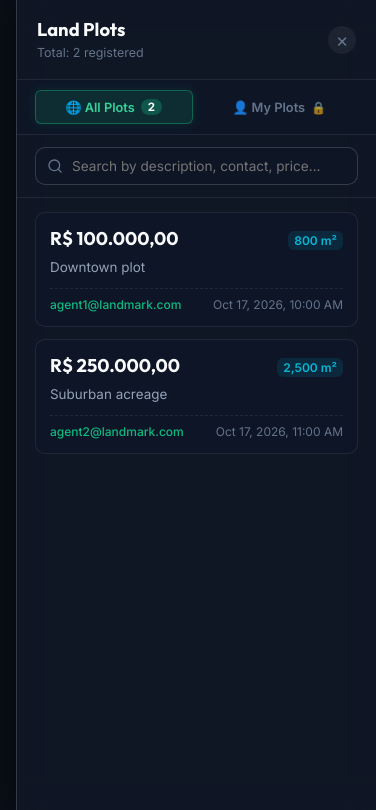
Scenario: PlotListPanel Component › clears search input when clear button clicked
Type "Downtown" into the field with placeholder "Search by description, contact, price..." at (196, 166), box x1=35 y1=147 x2=358 y2=185
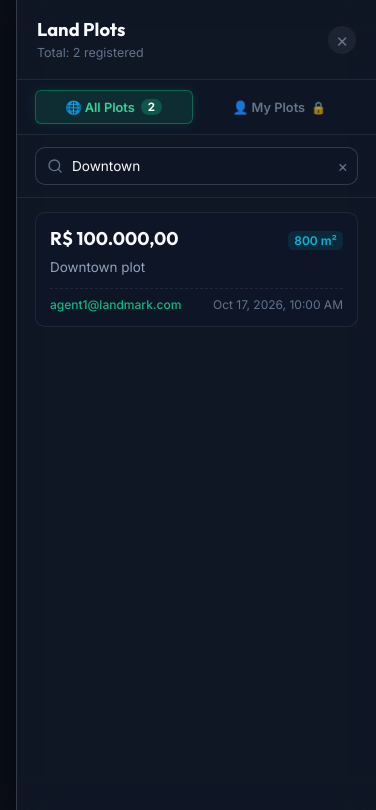
Expected: the text "Downtown plot" is shown, x1=50 y1=259 x2=145 y2=275
Click the 2nd button titled "Clear search" at (343, 166), box x1=337 y1=156 x2=348 y2=176
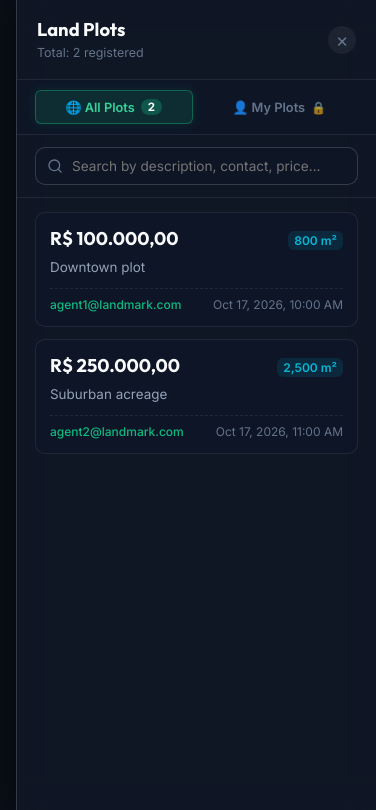
Expected: the field with placeholder "Search by description, contact, price..." is empty, x1=35 y1=147 x2=358 y2=185
Expected: the text "Suburban acreage" is shown, x1=50 y1=386 x2=167 y2=402
